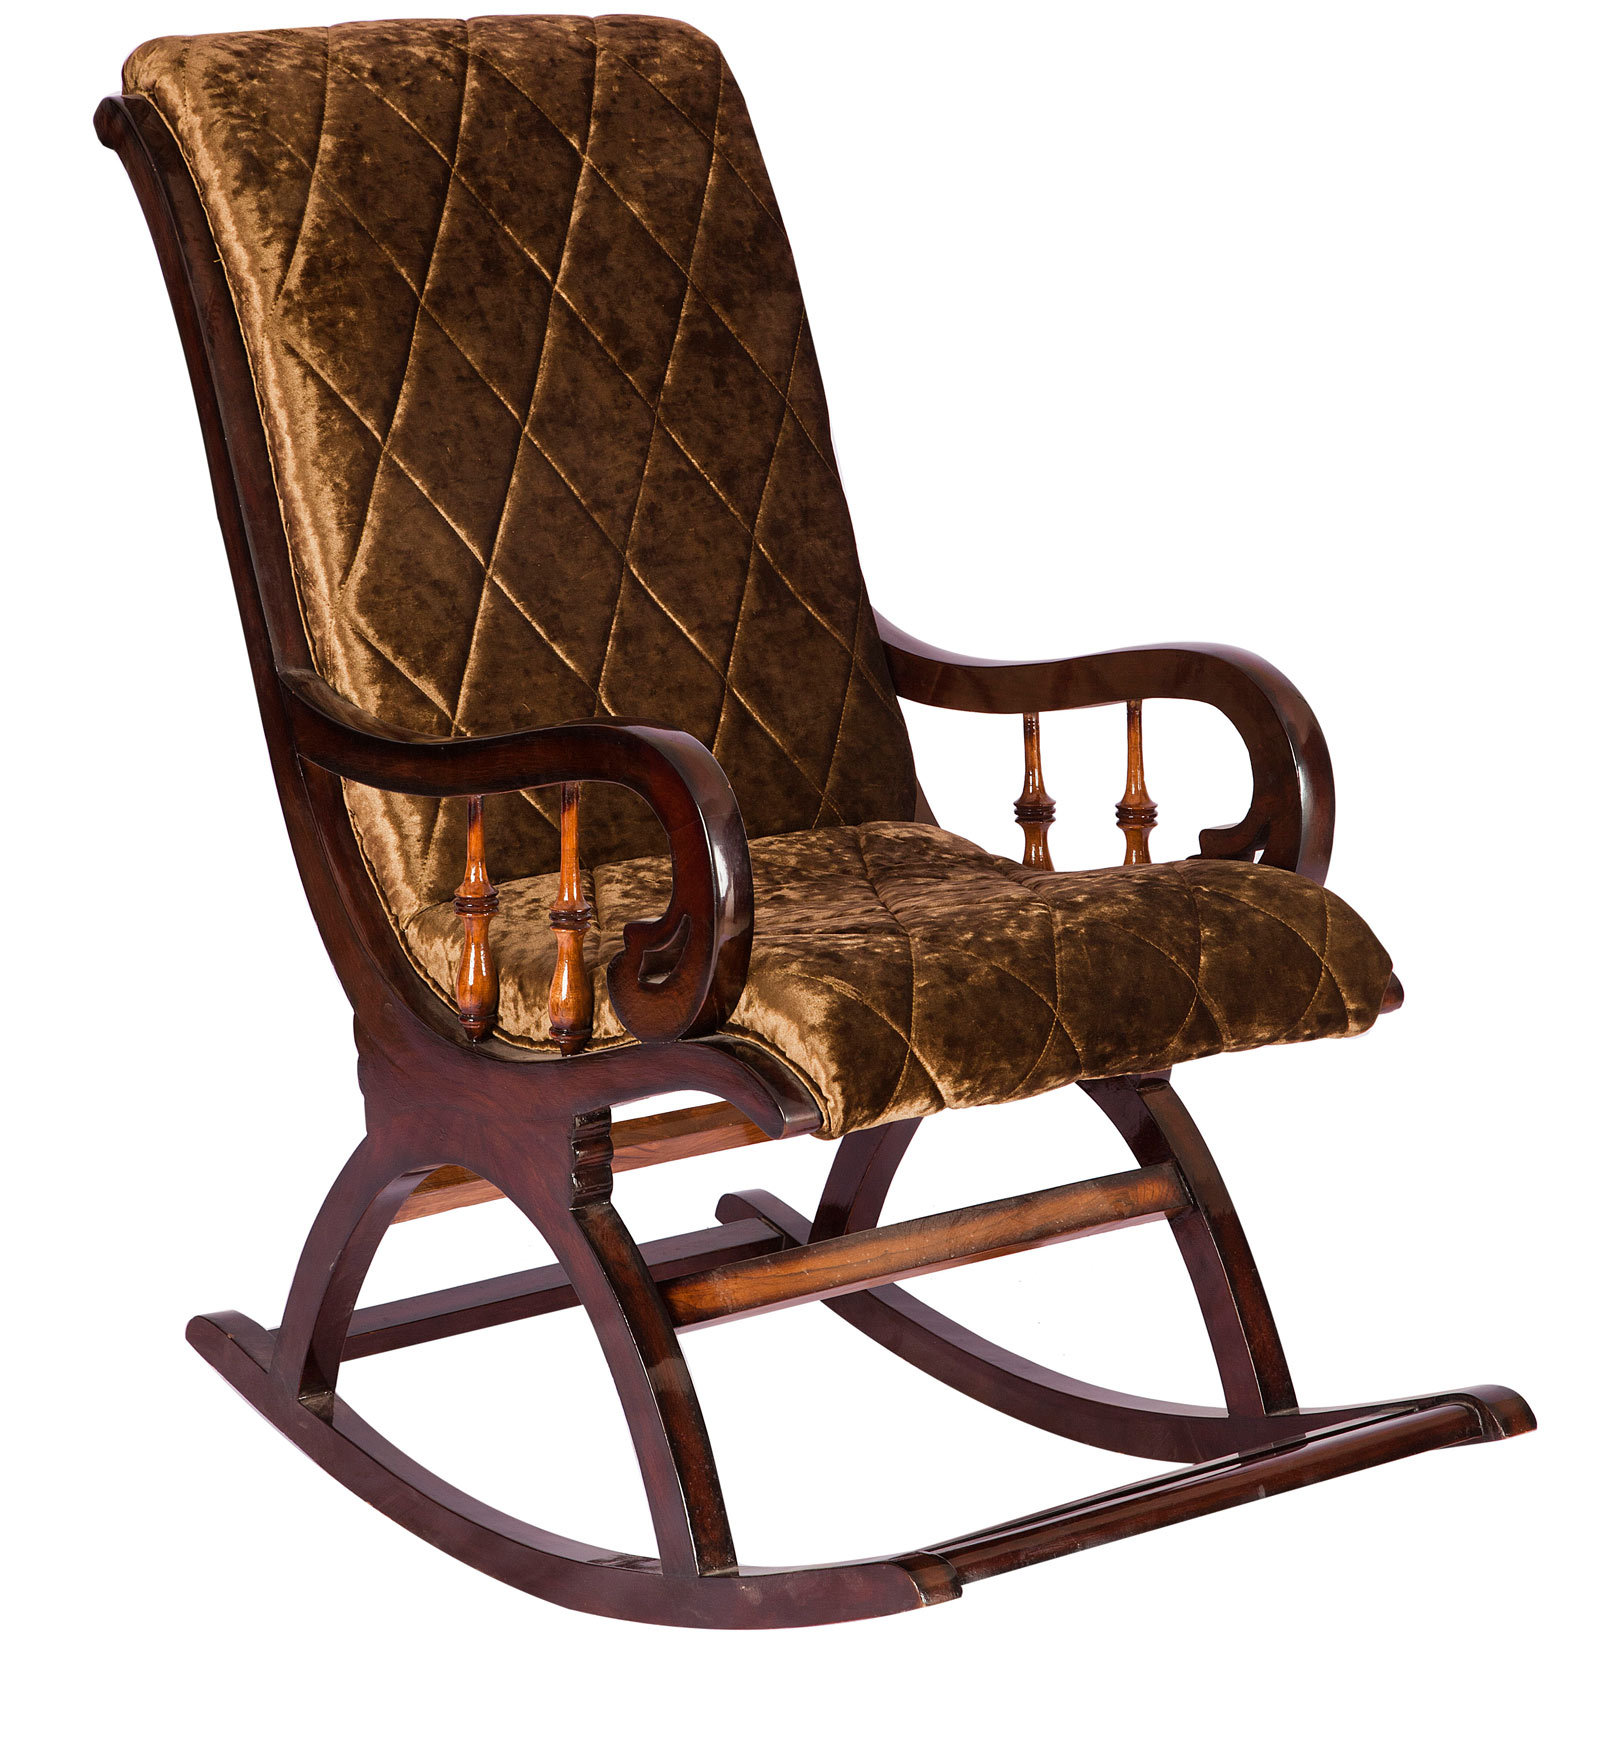Rocking Chair in Dark Brown Colour by Karigar: (41, 23, 1586, 1680)
